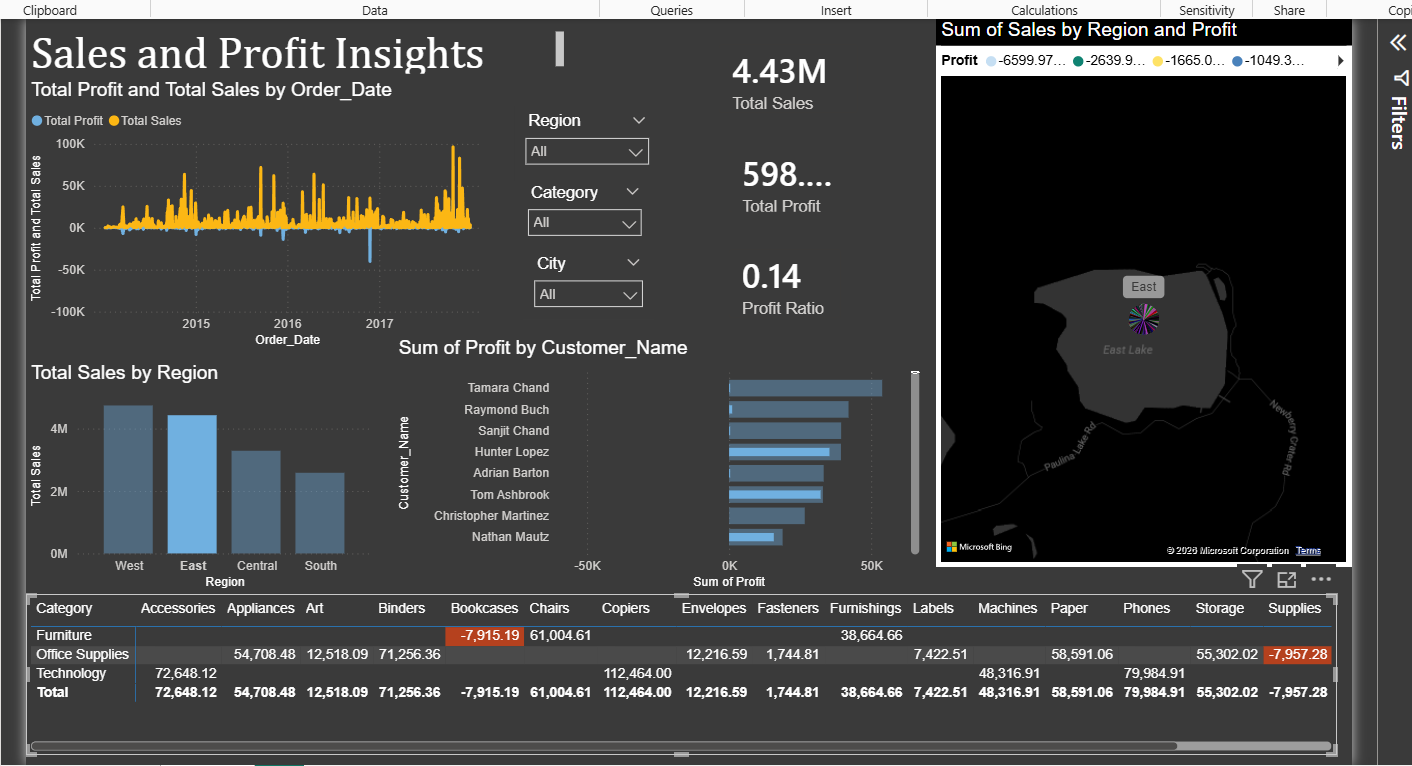

The dashboard page shown, as its layout file describes it:
{"tool":"powerbi","page":{"name":"Page 1","canvas":[1280,720],"ordinal":0},"visuals":[{"type":"lineChart","fields":{"Category":["Orders$.Order_Date"],"Y":["Orders$.Total Profit","Orders$.Total Sales"]},"box":[0,58.2,448.1,263.3],"z":0},{"type":"clusteredBarChart","fields":{"Category":["Orders$.Customer_Name"],"Y":["Sum(Orders$.Profit)"]},"box":[354.4,306.3,512.7,248.1],"z":1000},{"type":"map","fields":{"Category":["Orders$.Region"],"Series":["Orders$.Profit"],"Size":["Sum(Orders$.Sales)"]},"box":[878.5,0,401.3,529.1],"z":2000},{"type":"clusteredColumnChart","fields":{"Category":["Orders$.Region"],"Y":["Orders$.Total Sales"]},"box":[0,330.4,339.2,224.1],"z":3000},{"type":"pivotTable","fields":{"Columns":["Orders$.Sub_Category"],"Rows":["Orders$.Category"],"Values":["Sum(Orders$.Profit)"]},"box":[0,554.7,1265.3,156],"z":4000},{"type":"cardVisual","fields":{"Data":["Orders$.Total Profit"]},"box":[660.8,111.4,151.9,93.7],"z":5000},{"type":"cardVisual","fields":{"Data":["Orders$.Total Sales"]},"box":[651.9,7.6,169.6,101.3],"z":6000},{"type":"cardVisual","fields":{"Data":["Orders$.Profit Ratio"]},"box":[660.8,205.1,143,101.3],"z":7000},{"type":"slicer","fields":{"Values":["Orders$.Category"]},"box":[474.7,153.2,130.4,64.6],"z":8000},{"type":"slicer","fields":{"Values":["Orders$.Region"]},"box":[472.2,84.8,139.2,72.2],"z":9000},{"type":"textbox","box":[0,7.6,524.1,50.6],"z":10000},{"type":"slicer","fields":{"Values":["Orders$.City"]},"box":[479.7,221.5,125.3,68.4],"z":11000}]}

Visuals, with their boxes in screenshot pixels (x1, y1, x2, y2):
lineChart - Orders$.Order_Date x Orders$.Total Profit: 18:72:488:348
clusteredBarChart - Orders$.Customer_Name x Sum(Orders$.Profit): 390:332:927:592
map - Orders$.Region x Orders$.Profit: 939:11:1359:565
clusteredColumnChart - Orders$.Region x Orders$.Total Sales: 18:357:374:592
pivotTable - Orders$.Sub_Category x Orders$.Category: 18:592:1344:756
cardVisual - Orders$.Total Profit: 711:128:870:226
cardVisual - Orders$.Total Sales: 701:19:879:125
cardVisual - Orders$.Profit Ratio: 711:226:860:332
slicer - Orders$.Category: 516:172:652:239
slicer - Orders$.Region: 513:100:659:176
textbox: 18:19:567:72
slicer - Orders$.City: 521:243:652:315
